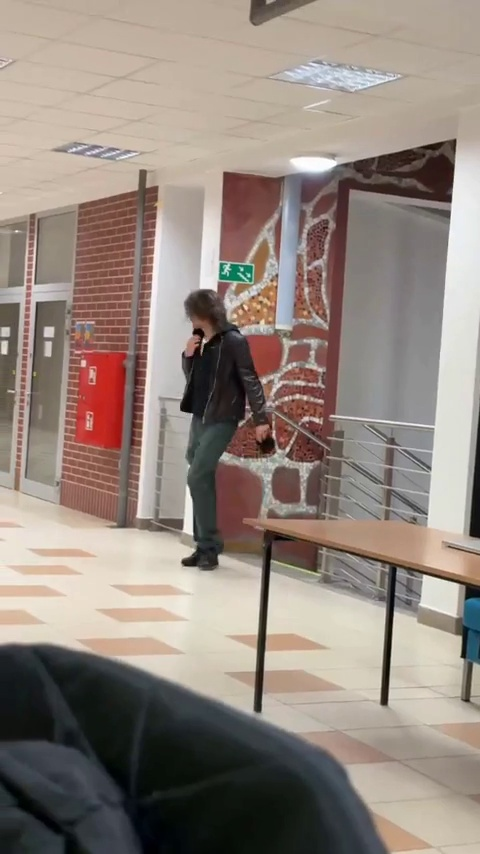no vest: (181, 285, 275, 573)
